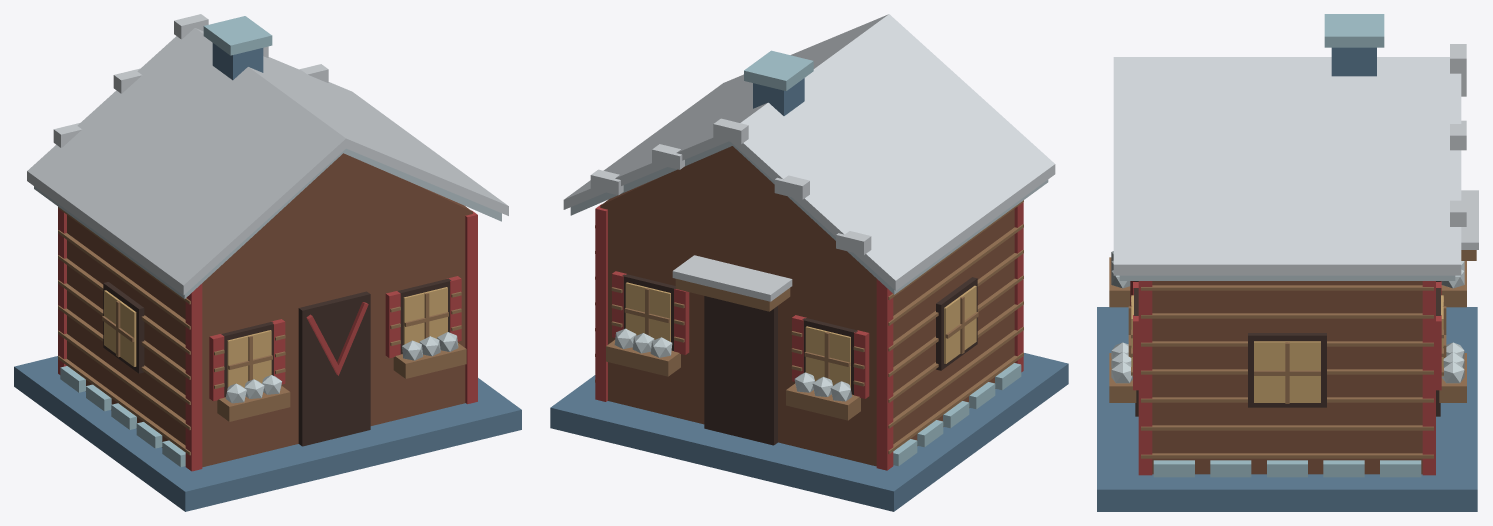
File: Frosty_Cabin_Showcase.glb
3 renders of one model, left to right at view 1: azimuth 30°, elevation 25°; view 2: azimuth 150°, elevation 25°; view 3: azimuth 270°, elevation 25°, orthographic. The views are drawn at different scales.
Visible parts, largest first — view 1: Frosty_Cabin_Showcase; view 2: Frosty_Cabin_Showcase; view 3: Frosty_Cabin_Showcase.
Boxes of the visible parts, x1=… form: Frosty_Cabin_Showcase: x1=14, y1=14, x2=521, y2=511; Frosty_Cabin_Showcase: x1=550, y1=14, x2=1068, y2=511; Frosty_Cabin_Showcase: x1=1097, y1=14, x2=1478, y2=511.
Bounding box in the file's own units: 4.2 × 4.24 × 3.71.
